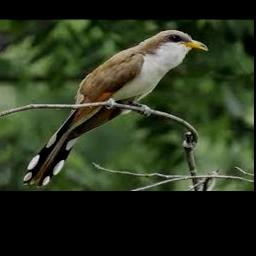Cuckoo: (22, 30, 207, 187)
